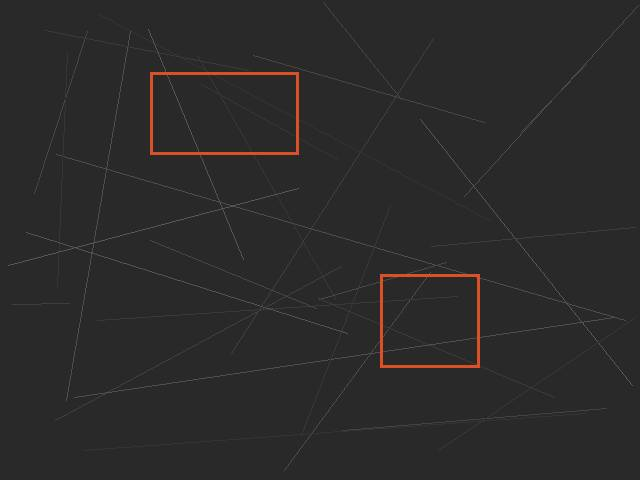D10: (380, 274, 479, 367)
D20: (150, 72, 298, 154)
